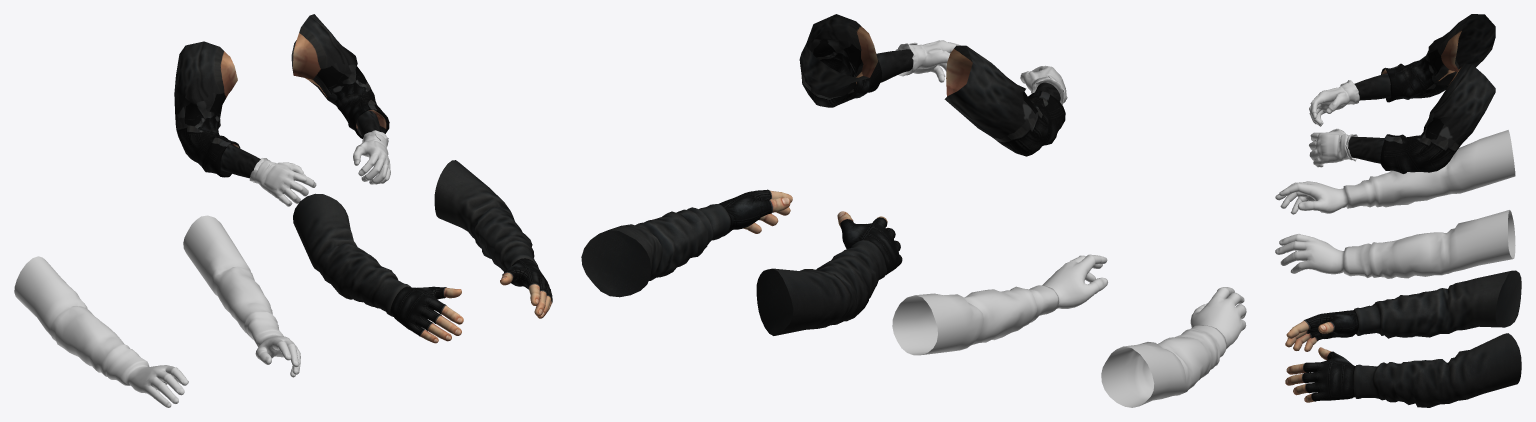
File: Arms_Pack.fbx
3 renders of one model, left to right at view 1: azimuth 30°, elevation 25°; view 2: azimuth 150°, elevation 25°; view 3: azimuth 270°, elevation 25°, orthographic. The views are drawn at different scales.
Visible parts, largest first — view 1: Arm01, Arm03, Arm02; view 2: Arm01, Arm02, Arm03; view 3: Arm01, Arm02, Arm03.
Boxes of the visible parts, left/top/right/bottom form: Arm01: left=293, top=160, right=552, bottom=343; Arm03: left=174, top=14, right=390, bottom=206; Arm02: left=14, top=215, right=300, bottom=407; Arm01: left=581, top=189, right=902, bottom=335; Arm02: left=892, top=254, right=1246, bottom=407; Arm03: left=799, top=14, right=1067, bottom=156; Arm01: left=1285, top=270, right=1521, bottom=407; Arm02: left=1275, top=130, right=1515, bottom=278; Arm03: left=1309, top=14, right=1495, bottom=173.
Size of the model in its own units: 134 by 75.26 by 62.71.
